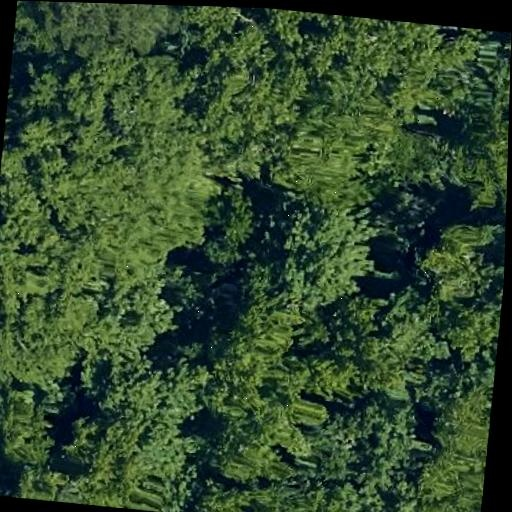tree-top: (52, 120, 223, 281), (62, 358, 205, 512), (12, 47, 155, 172), (199, 62, 301, 196), (330, 289, 443, 400), (313, 404, 425, 512), (265, 197, 374, 307), (346, 17, 465, 114), (190, 401, 308, 488), (0, 284, 88, 393), (408, 212, 506, 309), (430, 246, 505, 372), (211, 273, 307, 370), (33, 1, 181, 62), (78, 273, 173, 367), (188, 182, 266, 272), (0, 378, 70, 475), (419, 378, 494, 465), (377, 116, 458, 195), (447, 112, 509, 202), (0, 186, 60, 276), (448, 26, 512, 110), (403, 450, 486, 512), (234, 475, 327, 512), (204, 25, 266, 80), (11, 0, 50, 62), (192, 475, 254, 512), (179, 5, 232, 43), (256, 8, 317, 41), (1, 76, 20, 164), (0, 234, 7, 327), (500, 174, 507, 227)
